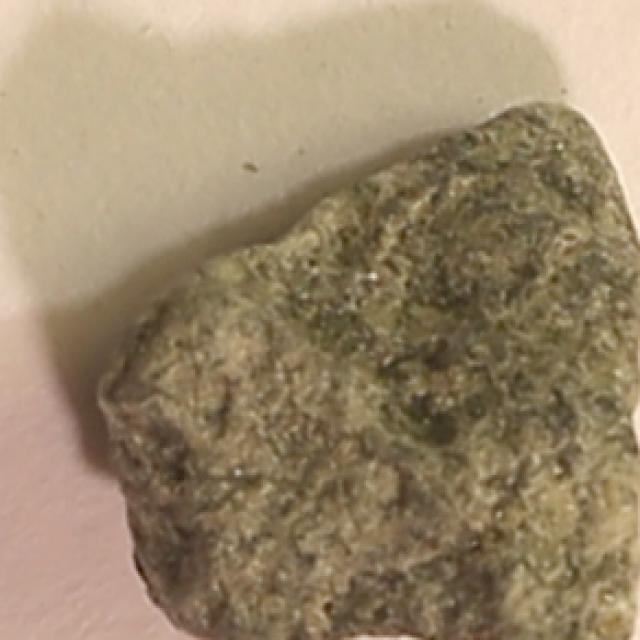stone: (94, 96, 640, 640)
